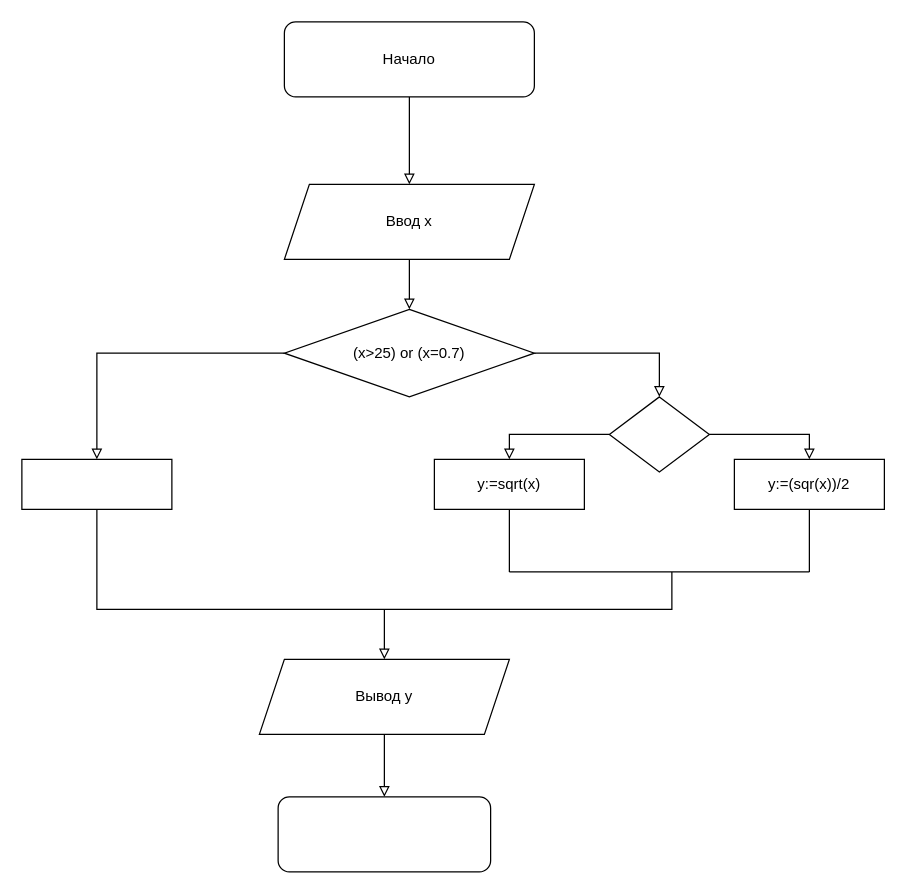
Some shapes in this 906 by 894 pixel diagram are drawn without their labels. The box of each missing label's shape, as (x1, y1, x2, y2) in pixels:
x>1 and x<25: (608, 396, 709, 472)
y:=ln(x): (21, 458, 172, 509)
Конец: (277, 796, 491, 872)
